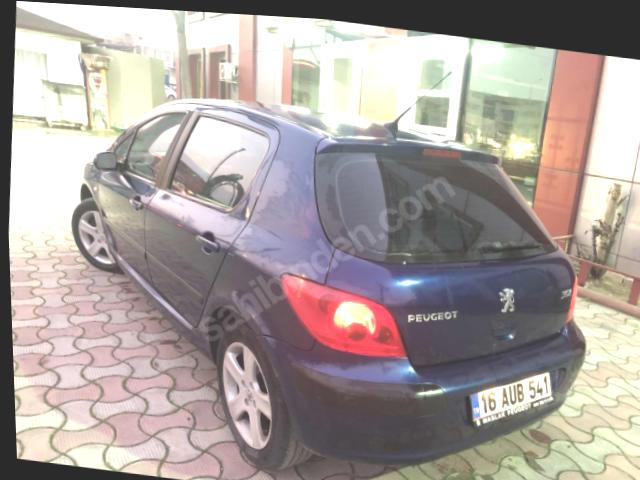plaka: (470, 372, 551, 425)
